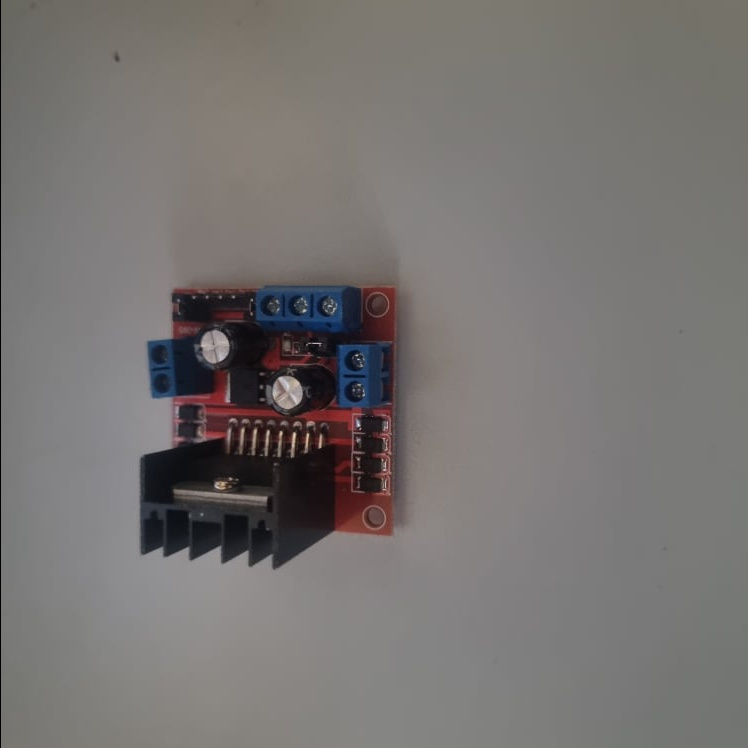MOTOR: (135, 281, 399, 570)
